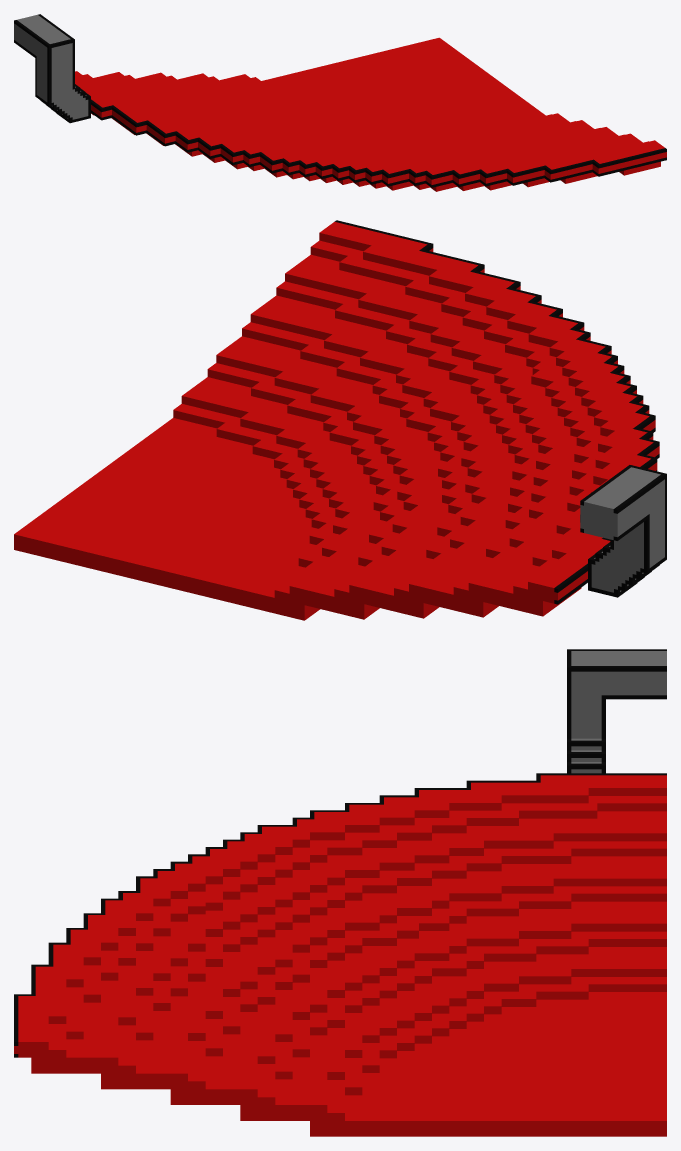
File: Ledianky-3.obj
3 views of the same model, one above another, from view 1: azimuth 30°, elevation 25°; view 2: azimuth 150°, elevation 25°; view 3: azimuth 270°, elevation 25° (orthographic). The views are drawn at different scales.
Bounding box in the file's own units: 16.2 × 4.8 × 15.
1 material, 1 textured.
